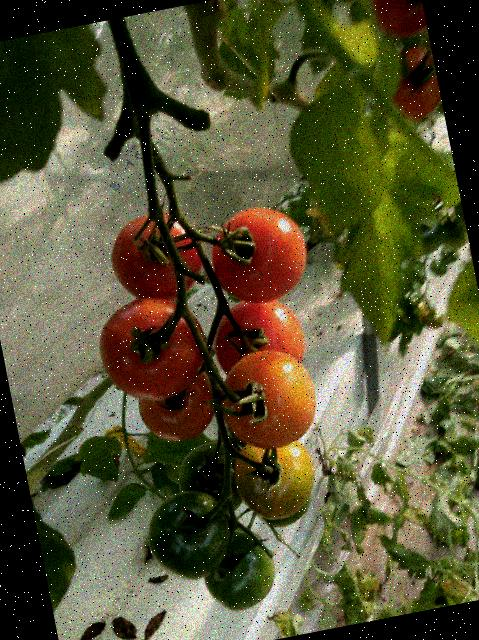l_fully_ripened: (88, 288, 213, 410), (201, 200, 314, 312), (101, 205, 207, 311), (205, 290, 308, 379), (381, 44, 444, 127), (370, 0, 428, 44)
l_green: (139, 483, 239, 587), (194, 520, 280, 616), (170, 437, 250, 523)
l_half_ripened: (209, 341, 324, 459), (226, 431, 322, 526), (131, 365, 221, 448)
